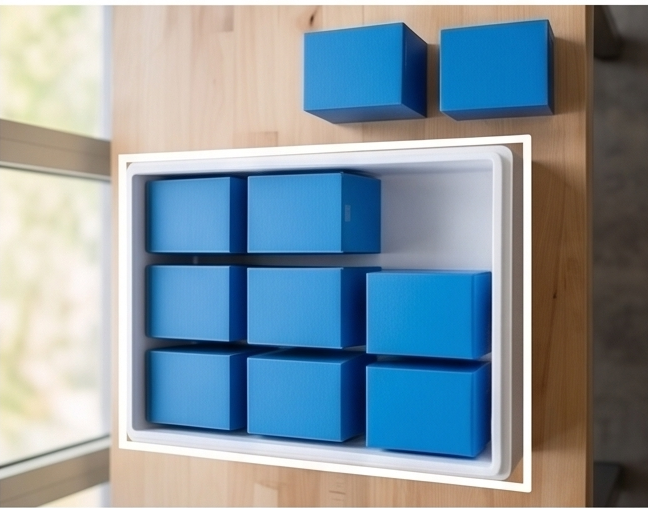blue_box: (220, 383, 345, 486), (157, 51, 283, 151), (271, 65, 399, 160), (92, 387, 209, 490), (156, 149, 283, 238), (266, 160, 401, 242), (267, 255, 400, 336), (400, 78, 502, 164), (398, 254, 503, 335), (400, 166, 505, 243)
container_box: (116, 16, 531, 373)
